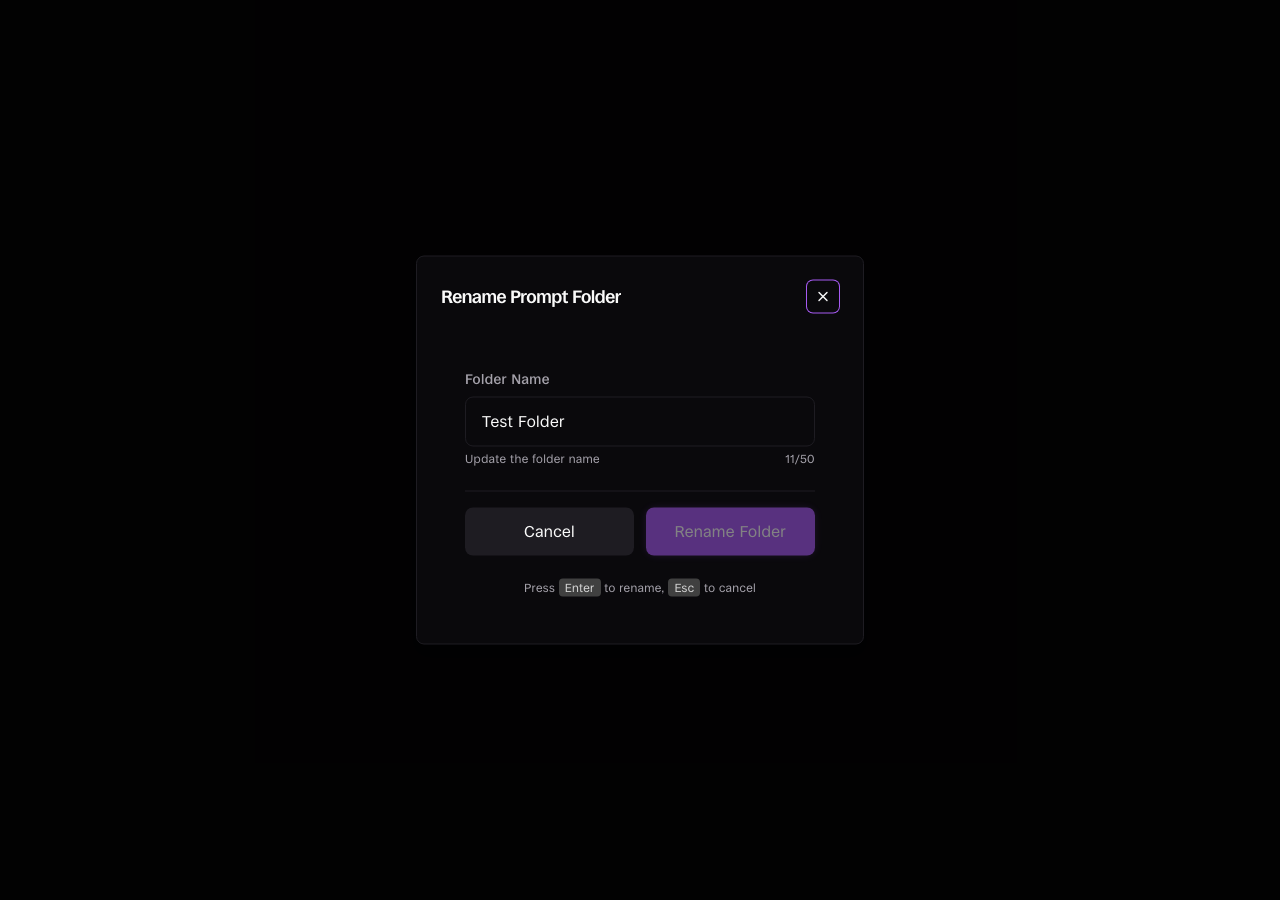
RenameFolderModal › should validate required field and show error when empty
Clear the field labelled "Folder Name" at [640, 422], box [465,396,815,446]
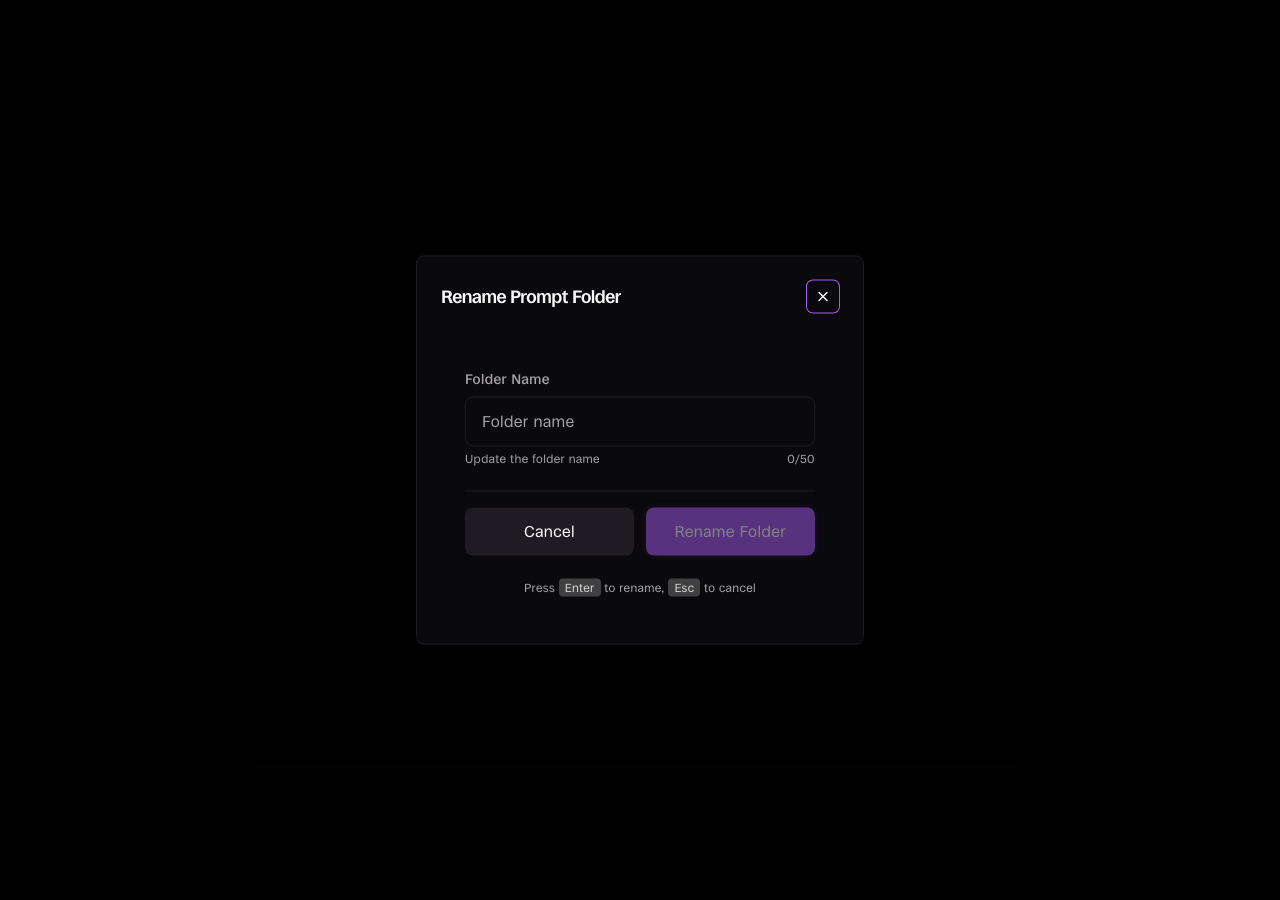
Submit the form from the button "Rename Folder", box [646,508,815,556]
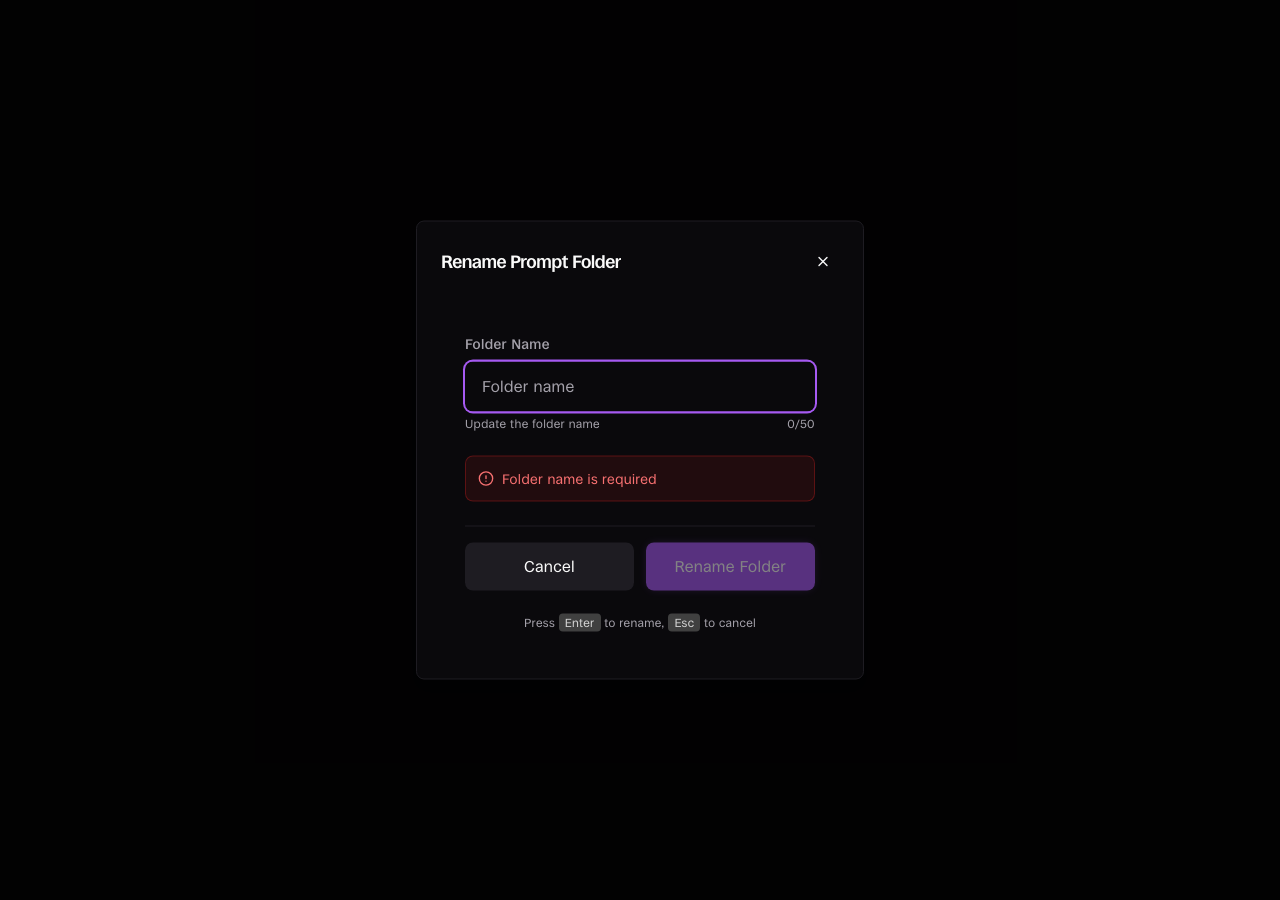
Expected: the text "Folder name is required" is shown, [502,468,657,488]
